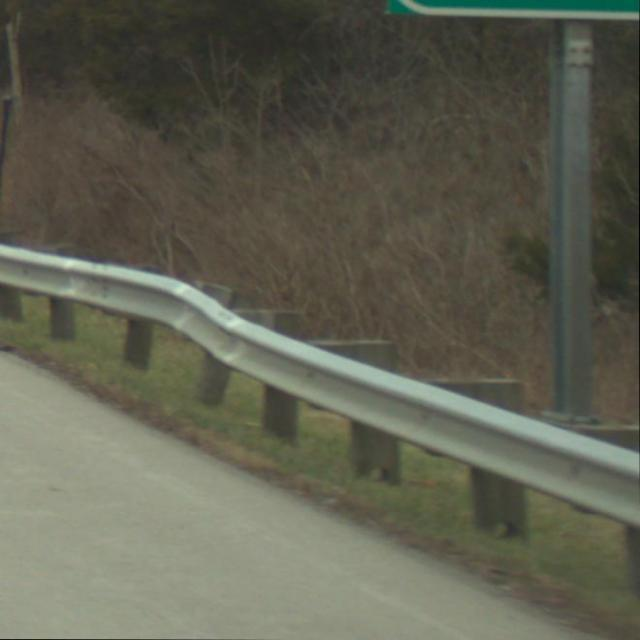Guard rail: (0, 219, 640, 582)
